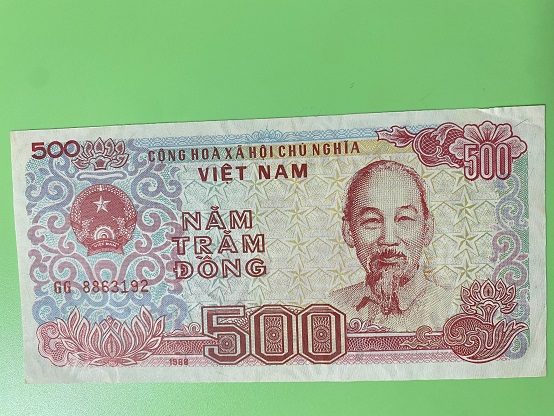500vnd: (8, 108, 548, 384)
